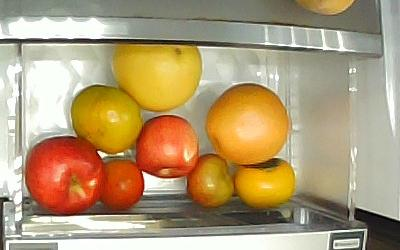apple: (25, 135, 104, 215), (135, 115, 200, 179)
grapefruit: (206, 83, 290, 166), (112, 45, 203, 112)
persimmon: (70, 84, 144, 155), (234, 158, 295, 207)
prune: (186, 153, 235, 208), (100, 158, 145, 211)
